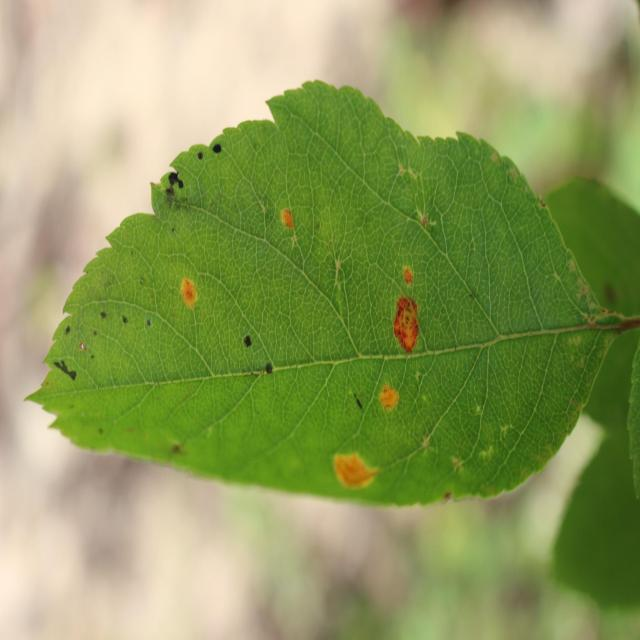Rust: (388, 296, 425, 369), (328, 450, 386, 494), (170, 260, 202, 318), (370, 376, 406, 424), (397, 260, 422, 292), (277, 206, 298, 234)
